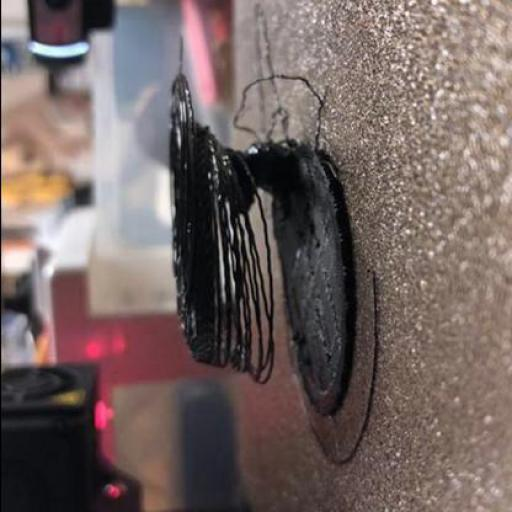spaghetti: (214, 152, 272, 386), (228, 73, 321, 151), (174, 32, 184, 74)
